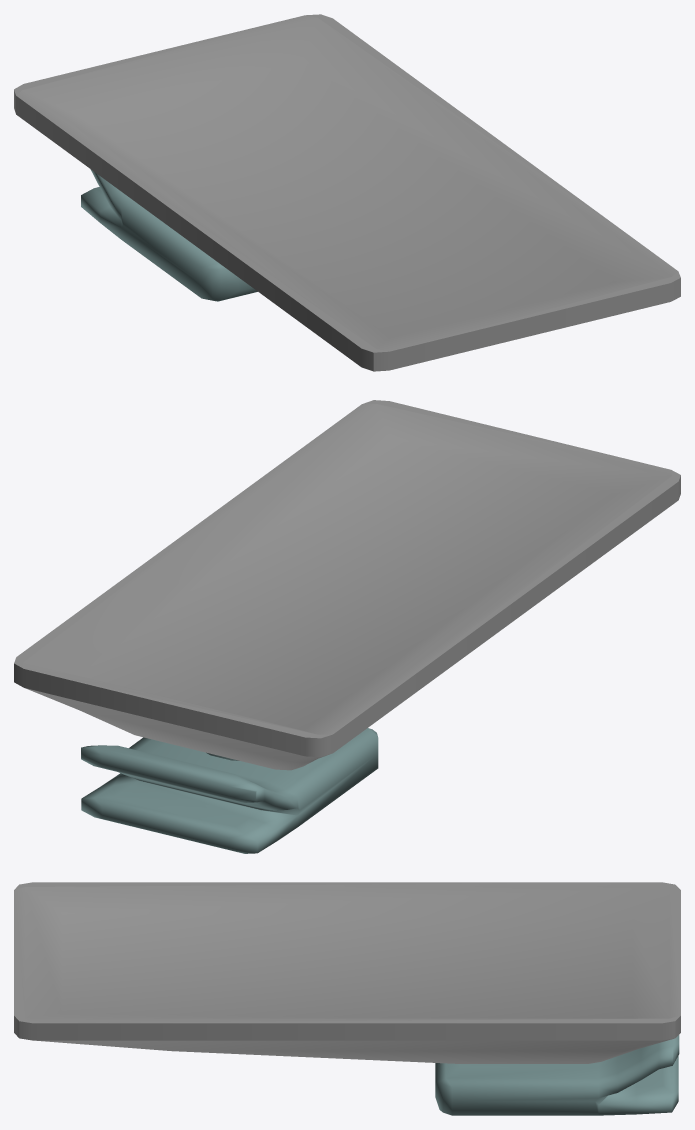
File: Bed.FBX
3 renders of one model, top to bottom at view 1: azimuth 30°, elevation 25°; view 2: azimuth 150°, elevation 25°; view 3: azimuth 270°, elevation 25°, orthographic. The views are drawn at different scales.
Parts seen in each view (by area): view 1: Bed, Support; view 2: Bed, Support; view 3: Bed, Support.
Part boxes in pixels (<box>): Bed: <box>14,14,680,371</box>; Support: <box>81,169,257,301</box>; Bed: <box>14,400,680,770</box>; Support: <box>81,728,378,853</box>; Bed: <box>14,882,680,1063</box>; Support: <box>435,1035,679,1115</box>.
Size of the model in its own units: 90 by 39.14 by 180.
